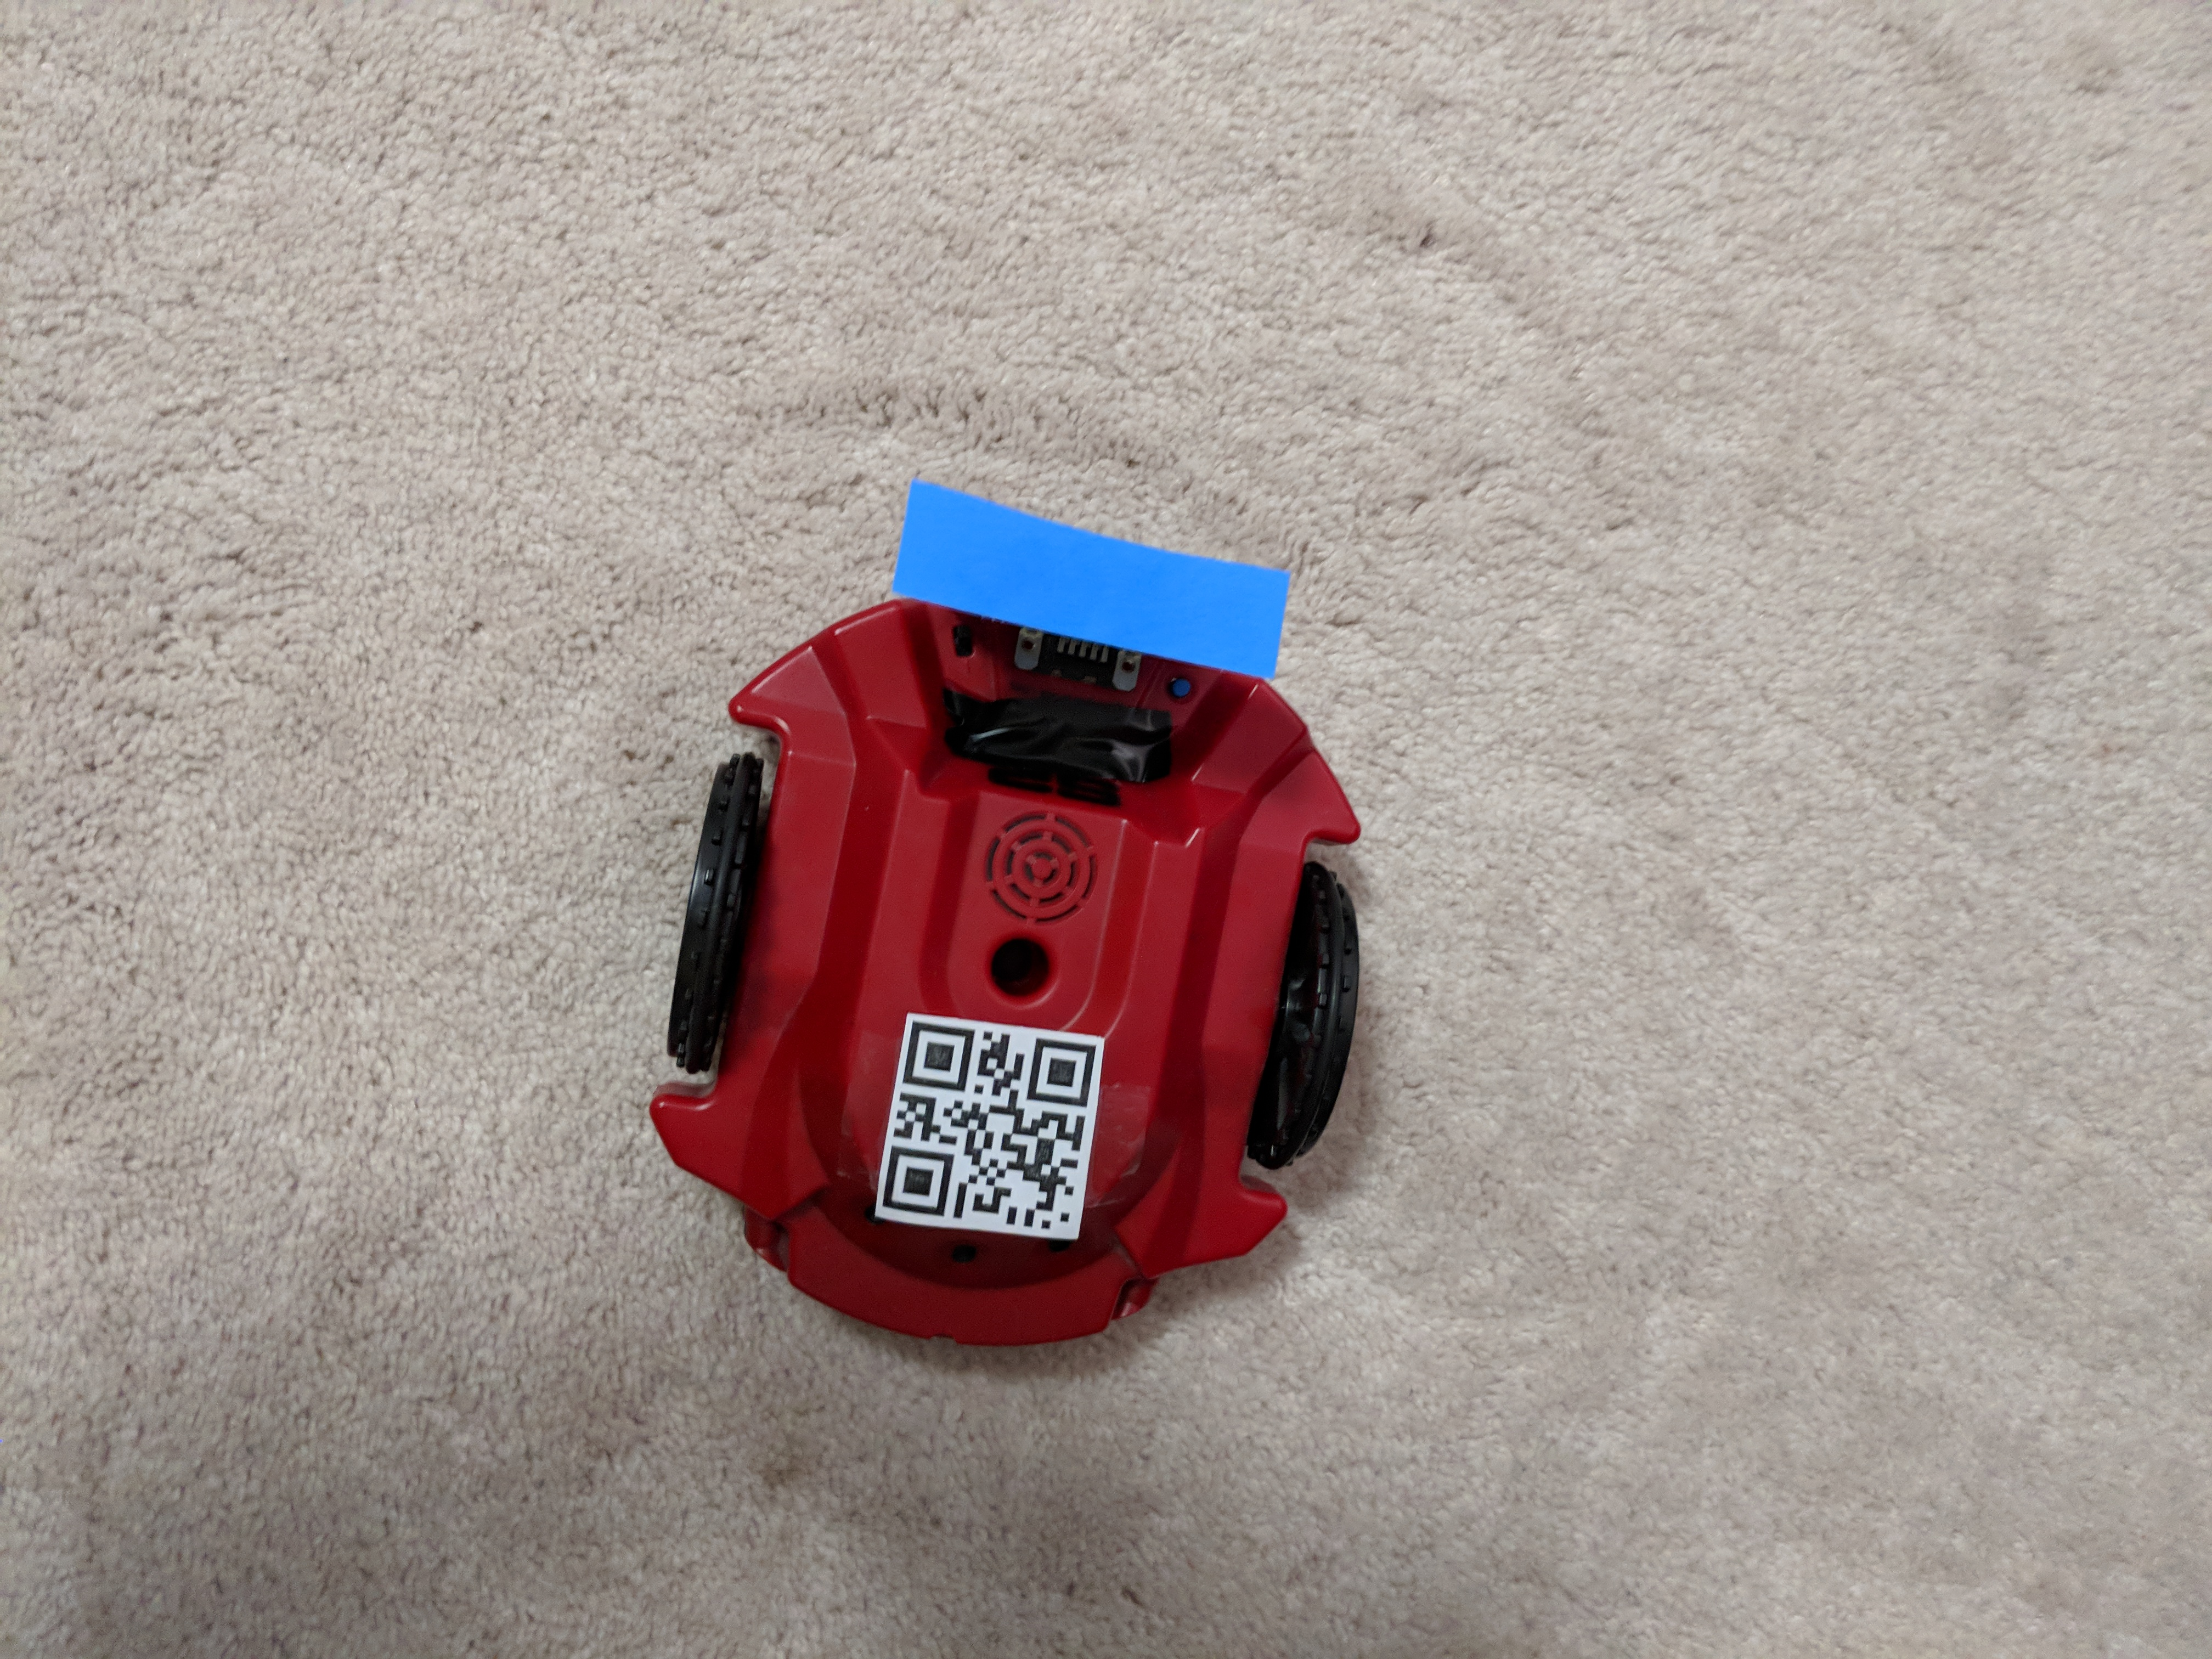chassis: (641, 477, 1386, 1380)
qr: (880, 1006, 1089, 1251)
